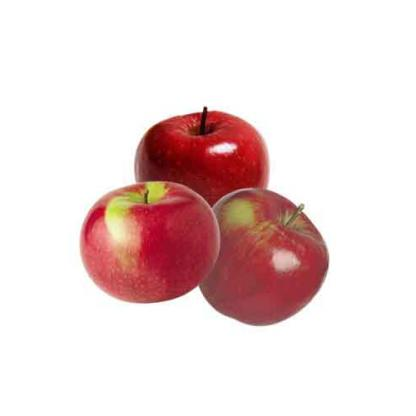apple: (127, 106, 276, 246), (199, 188, 338, 335), (79, 181, 226, 312)
